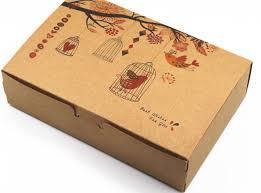box: (0, 0, 253, 193)
